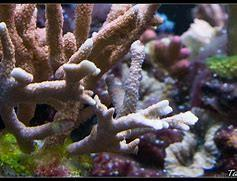bleached_corals: (0, 3, 197, 153), (69, 96, 199, 154), (105, 37, 148, 122), (154, 128, 220, 181), (179, 17, 230, 64)
